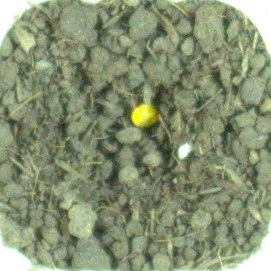pepper seed: (48, 38, 210, 167)
